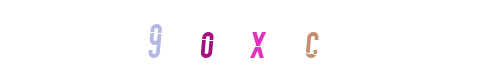9: (140, 0, 220, 80)
C: (266, 0, 346, 80)
O: (191, 0, 271, 80)
X: (210, 0, 290, 80)
